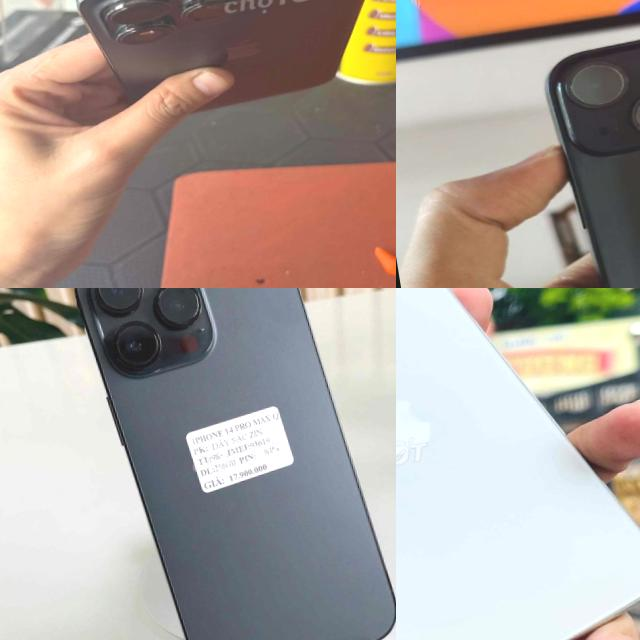gen_11: (396, 288, 640, 640)
gen_12_13: (536, 2, 640, 288)
gen_14: (67, 288, 396, 640), (64, 0, 396, 161)
